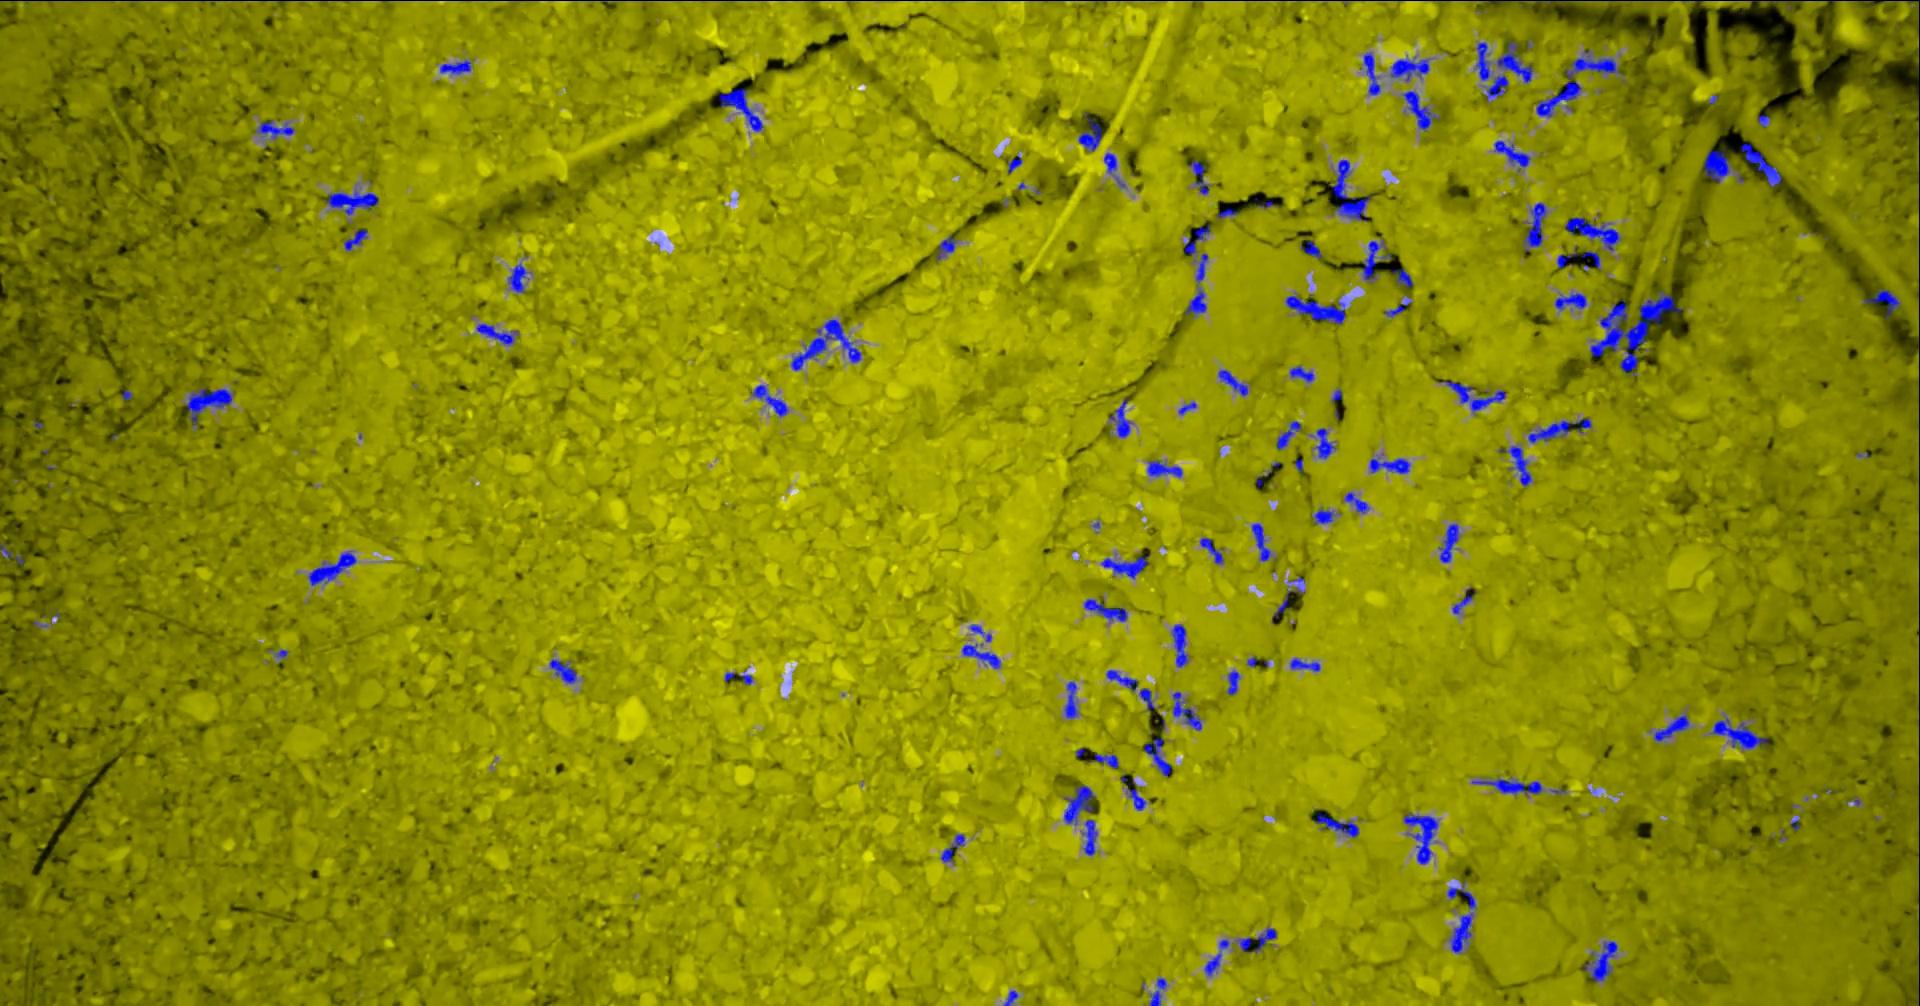ant: (792, 319, 863, 370), (1333, 159, 1371, 221), (1441, 380, 1507, 412), (1448, 882, 1477, 953), (720, 86, 764, 131), (1109, 669, 1157, 710), (1566, 216, 1622, 250), (1712, 716, 1769, 749), (1404, 812, 1440, 864), (309, 550, 358, 586), (1742, 142, 1783, 185), (1288, 295, 1347, 324), (187, 387, 232, 426), (1529, 417, 1592, 442), (1498, 39, 1534, 83), (1186, 253, 1210, 316), (1583, 940, 1619, 982), (1404, 90, 1441, 130), (1500, 445, 1533, 486), (328, 189, 380, 215), (1316, 808, 1360, 837), (753, 384, 789, 417), (1473, 779, 1544, 795), (1065, 785, 1095, 824), (1145, 735, 1173, 776), (1103, 554, 1150, 578), (1525, 202, 1548, 251), (1864, 288, 1902, 318), (1084, 597, 1129, 621), (1175, 691, 1203, 729), (1206, 939, 1234, 976), (963, 643, 1002, 668), (1495, 140, 1531, 166), (1655, 714, 1691, 741), (1363, 238, 1385, 279), (477, 323, 521, 344), (1704, 149, 1731, 183), (1390, 58, 1431, 80), (1275, 587, 1305, 615), (1111, 398, 1133, 437), (1079, 117, 1103, 151), (1363, 52, 1382, 95), (1185, 224, 1211, 254), (1219, 370, 1250, 396), (1312, 427, 1337, 459), (1440, 523, 1460, 561), (257, 119, 296, 138), (1253, 522, 1272, 561), (1190, 159, 1210, 194), (1277, 420, 1303, 448), (942, 833, 966, 862), (1173, 622, 1189, 667), (509, 263, 532, 292), (1149, 459, 1183, 478), (1201, 537, 1225, 564), (551, 659, 578, 683), (1486, 75, 1510, 100), (1454, 587, 1477, 614), (1476, 41, 1491, 80), (1371, 457, 1411, 473), (1, 541, 25, 565), (1556, 292, 1589, 309), (937, 234, 957, 260), (1065, 680, 1079, 718), (1128, 782, 1147, 810), (345, 229, 370, 250), (1346, 492, 1370, 513), (1084, 819, 1098, 855), (1150, 977, 1168, 1005), (1257, 927, 1277, 951), (441, 58, 472, 74), (1558, 245, 1578, 268), (1752, 0, 1804, 9), (1385, 301, 1413, 318), (1092, 752, 1120, 768), (1291, 365, 1316, 382), (1393, 267, 1415, 286), (1313, 507, 1336, 525), (1291, 658, 1322, 671), (1302, 240, 1323, 258), (971, 624, 993, 641), (1582, 250, 1601, 269), (1229, 669, 1241, 695), (1010, 152, 1023, 173), (1105, 152, 1117, 174), (1218, 207, 1239, 218), (1180, 401, 1197, 414), (1004, 989, 1018, 1005), (1239, 937, 1253, 951), (1759, 113, 1771, 127)
